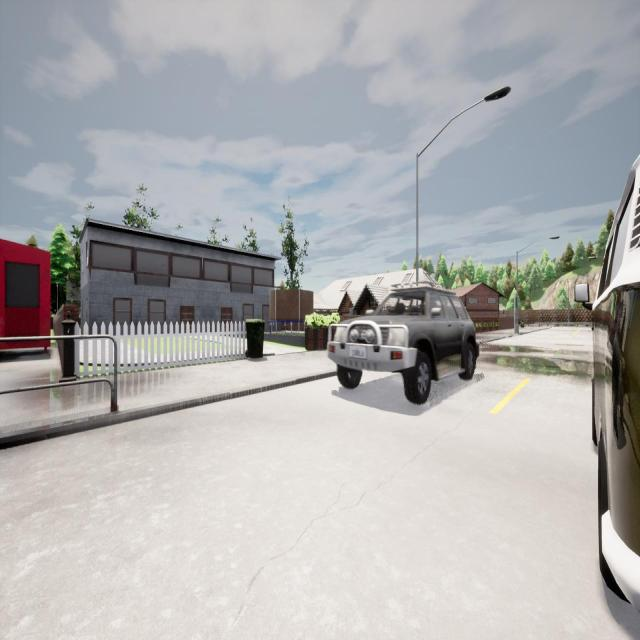Vehicle: (574, 154, 638, 620), (328, 286, 478, 403)
traffic_light: (514, 297, 517, 307), (503, 310, 505, 314)
